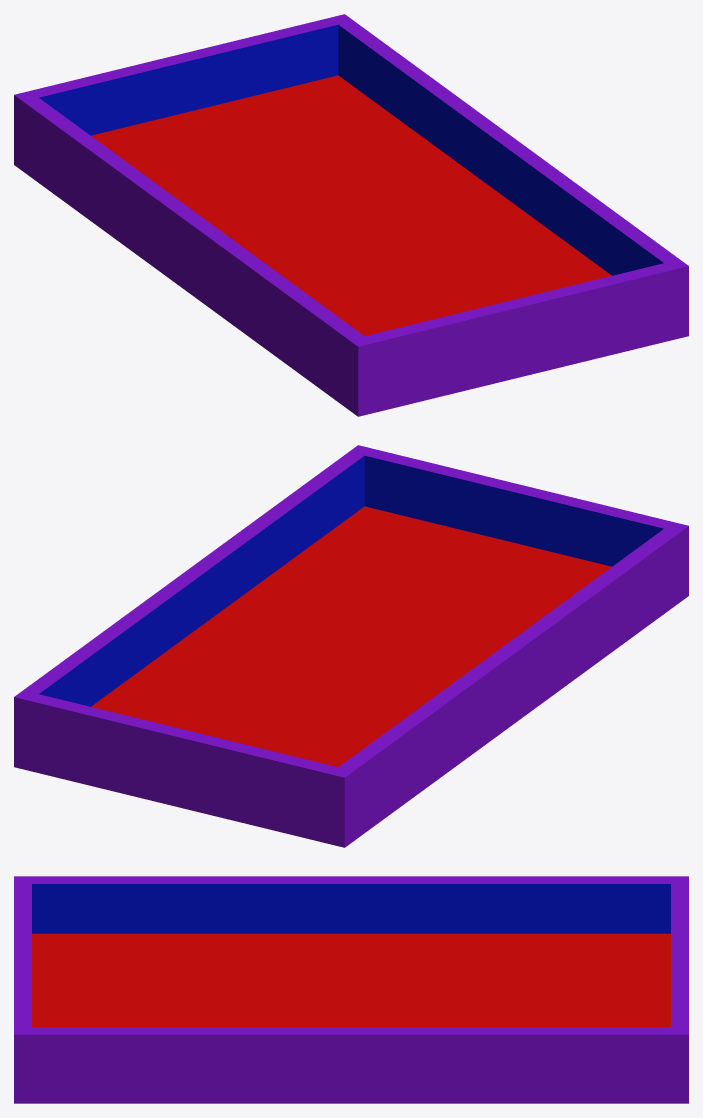
Rendered from board2obj.obj.
3 views of the same model, one above another, from view 1: azimuth 30°, elevation 25°; view 2: azimuth 150°, elevation 25°; view 3: azimuth 270°, elevation 25° (orthographic).
Visible parts, largest first — view 1: Board_Cube.001; view 2: Board_Cube.001; view 3: Board_Cube.001.
Boxes of the visible parts, left/top/right/bottom form: Board_Cube.001: left=14, top=14, right=688, bottom=416; Board_Cube.001: left=14, top=445, right=688, bottom=847; Board_Cube.001: left=14, top=876, right=688, bottom=1103.
Size of the model in its own units: 4.5 by 0.9106 by 8.11.
Materials: 1 (1 with a texture image).
